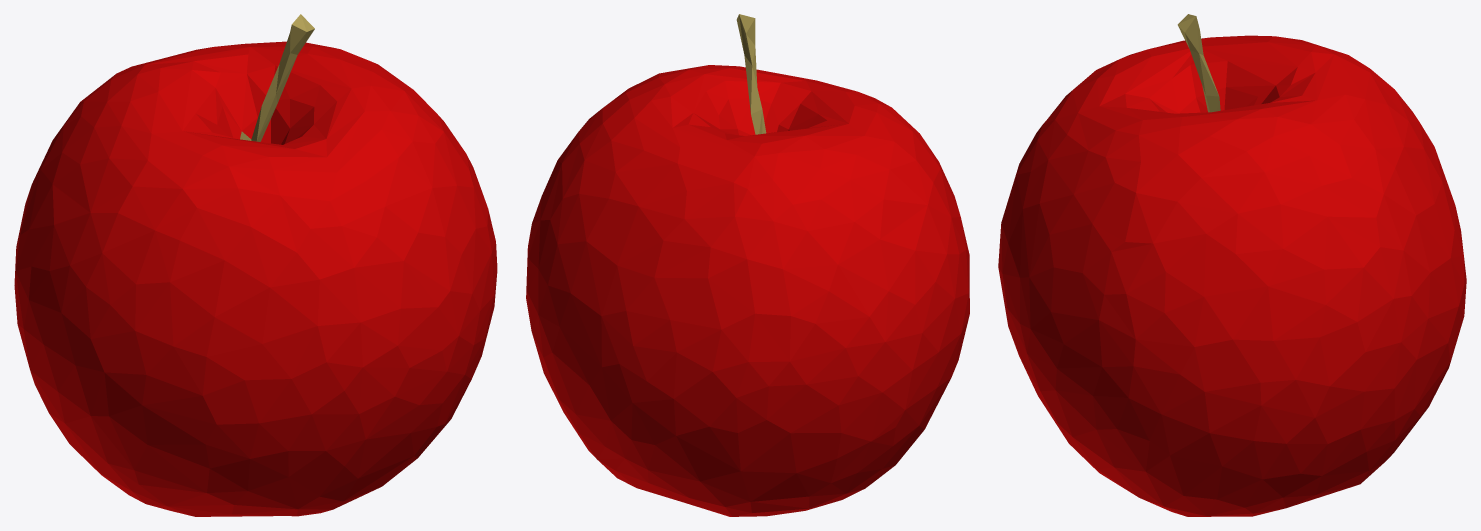
Rendered from apple.glb.
The picture shows the model from 3 angles, left to right: view 1: azimuth 30°, elevation 25°; view 2: azimuth 150°, elevation 25°; view 3: azimuth 270°, elevation 25°; orthographic projection. The views are drawn at different scales.
Visible parts, largest first — view 1: node-0; view 2: node-0; view 3: node-0.
Boxes of the visible parts, bbox=[...] form: node-0: bbox=[14, 14, 497, 516]; node-0: bbox=[526, 14, 969, 516]; node-0: bbox=[998, 14, 1466, 516].
Bounding box in the file's own units: 155 × 167 × 151.
